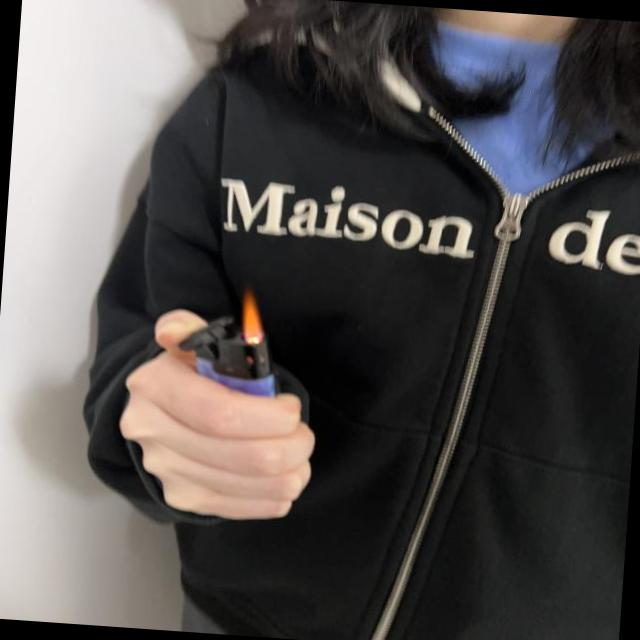Fire: (238, 290, 268, 347)
